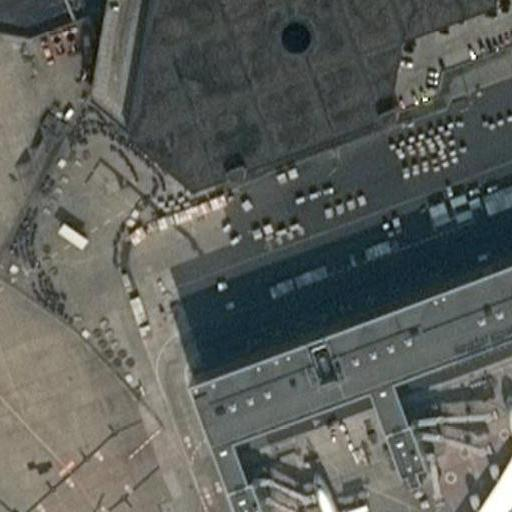Aircraft: (444, 389, 512, 512), (263, 475, 439, 512)
